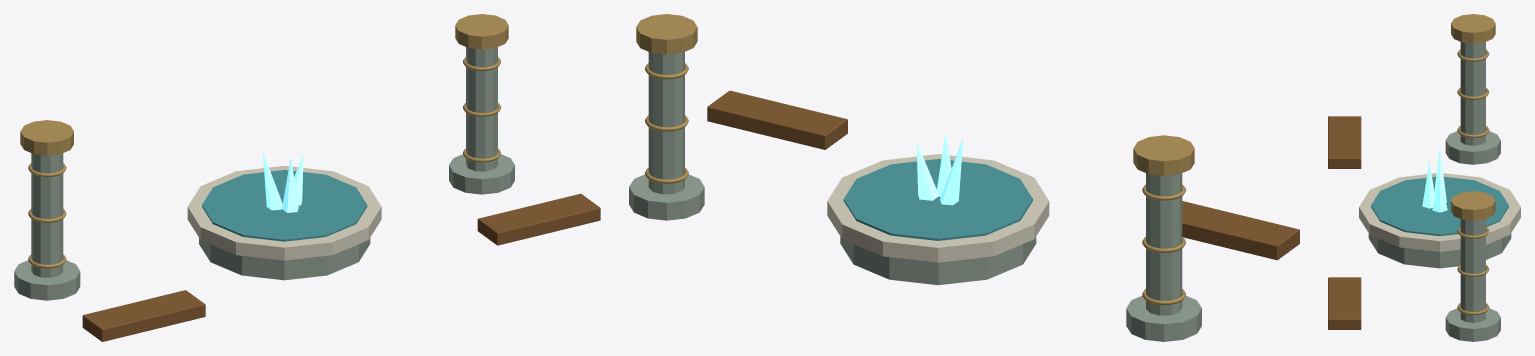
The model's file is facility_heal.glb.
The picture shows the model from 3 angles, left to right: view 1: azimuth 30°, elevation 25°; view 2: azimuth 150°, elevation 25°; view 3: azimuth 270°, elevation 25°; orthographic projection. The views are drawn at different scales.
Visible parts, largest first — view 1: Props, Architecture, Energy; view 2: Props, Architecture, Energy; view 3: Architecture, Props, Energy.
Boxes of the visible parts, box(x1,y1,x2,y2) form: Props: box(82, 165, 600, 341); Architecture: box(14, 14, 514, 300); Energy: box(202, 151, 367, 241); Props: box(707, 90, 1299, 285); Architecture: box(629, 14, 1201, 341); Energy: box(843, 133, 1032, 240); Architecture: box(1445, 14, 1500, 341); Props: box(1328, 116, 1520, 329); Energy: box(1371, 148, 1508, 235).
Bounding box in the file's own units: 10.1 × 3.02 × 4.05.
